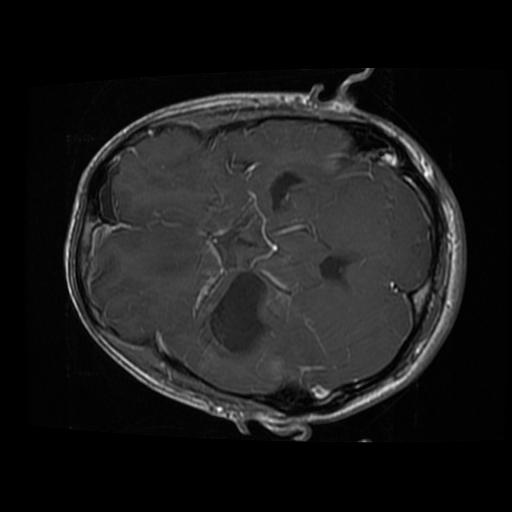glioma: (204, 271, 268, 356)
